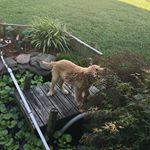puppy: (38, 57, 108, 113)
